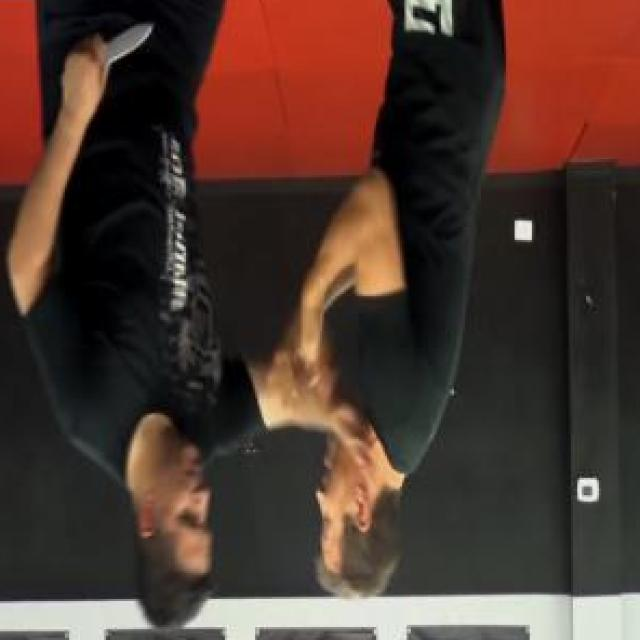knife: (58, 18, 156, 98)
